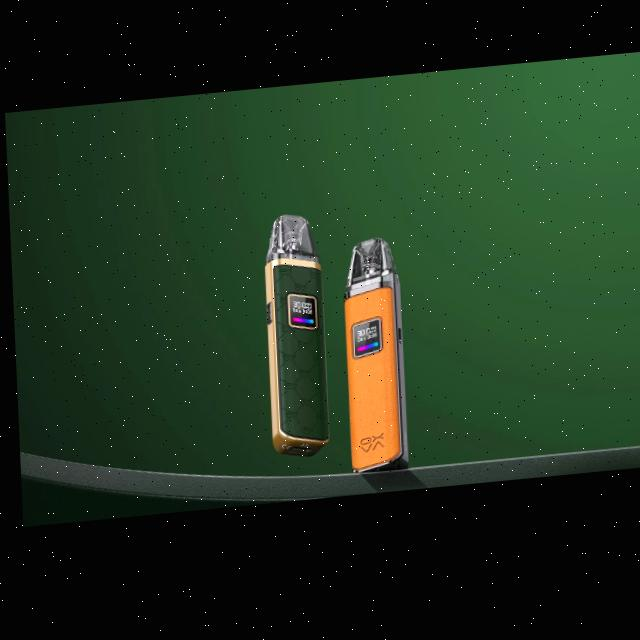vape: (260, 217, 327, 467), (339, 244, 405, 482)
